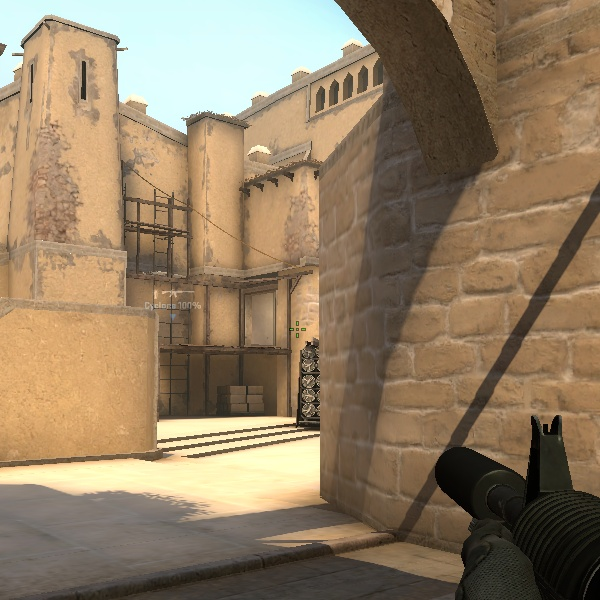t_body: (295, 338, 325, 423)
